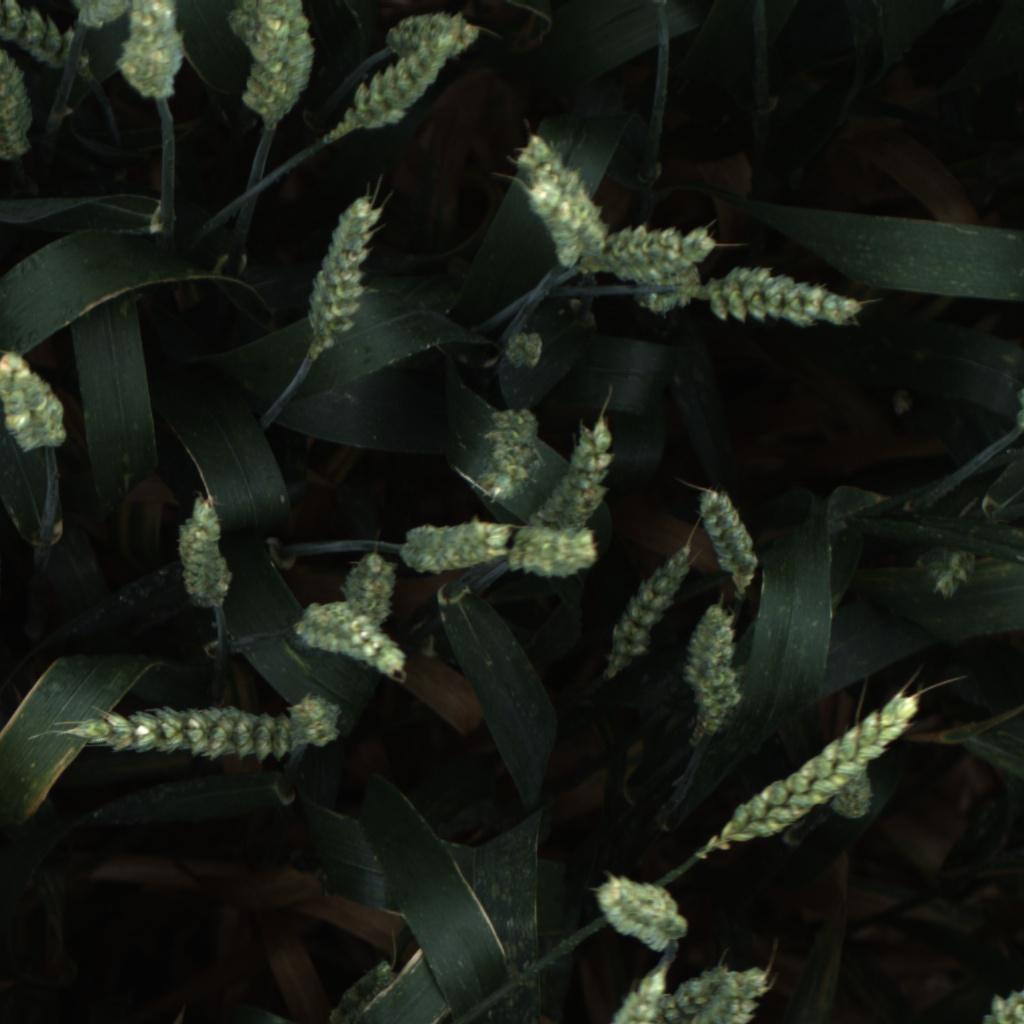0-0: (697, 691, 919, 874), (298, 180, 387, 369), (60, 697, 291, 767), (509, 136, 609, 276), (524, 408, 618, 555), (227, 0, 328, 135), (606, 531, 694, 673), (708, 264, 876, 335), (343, 39, 462, 139), (290, 589, 413, 684), (690, 474, 777, 604), (390, 504, 519, 585), (676, 598, 749, 735), (114, 0, 204, 105), (465, 398, 548, 509), (587, 863, 689, 953), (168, 485, 237, 618), (606, 217, 726, 290), (0, 343, 74, 454), (904, 530, 995, 616), (385, 3, 498, 72), (2, 0, 92, 86), (506, 521, 606, 592), (572, 957, 675, 1024), (0, 34, 47, 169), (625, 259, 708, 331), (817, 747, 883, 833), (320, 956, 402, 1024), (688, 968, 783, 1024), (337, 541, 396, 626), (671, 957, 742, 1024), (287, 691, 348, 754), (66, 0, 143, 42), (499, 321, 552, 380)
